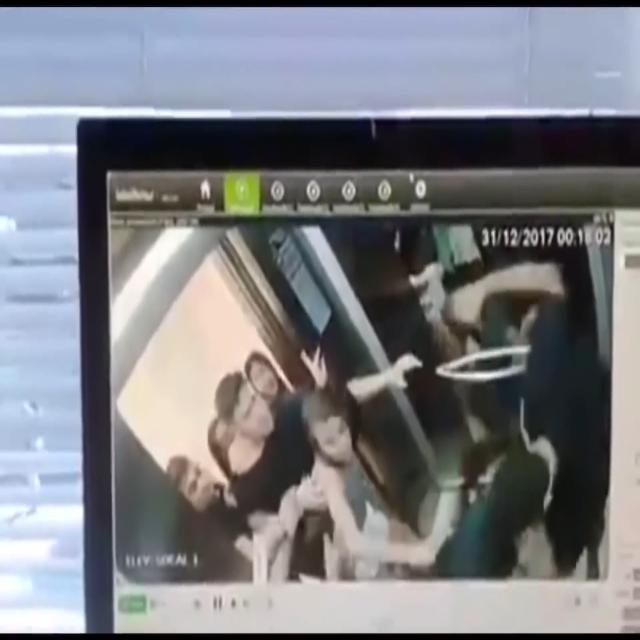fight: (302, 253, 606, 580)
